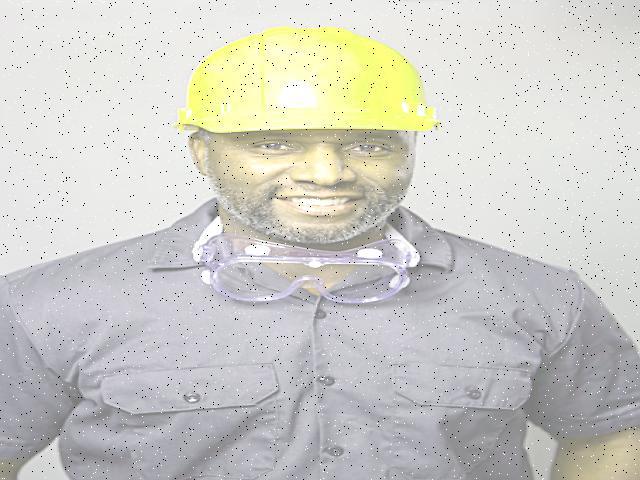Helmet: (166, 20, 444, 153)
